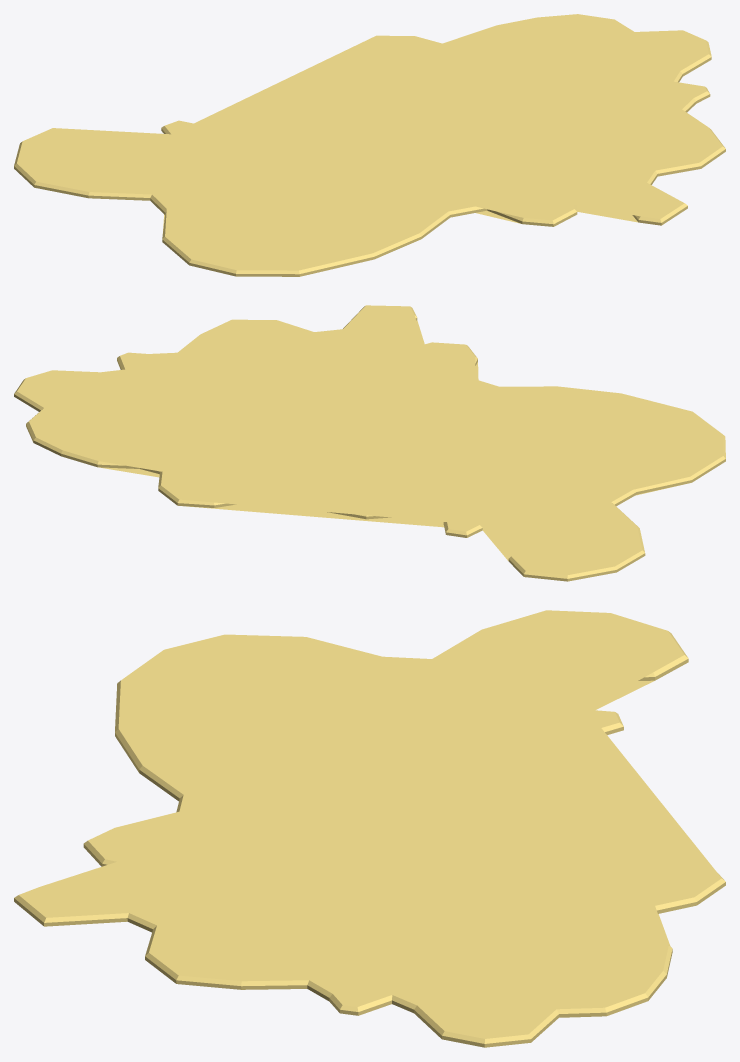
File: colla_pesce_ui.fbx
The picture shows the model from 3 angles, top to bottom: view 1: azimuth 30°, elevation 25°; view 2: azimuth 150°, elevation 25°; view 3: azimuth 270°, elevation 25°; orthographic projection. The views are drawn at different scales.
Parts seen in each view (by area): view 1: Colla di pesce; view 2: Colla di pesce; view 3: Colla di pesce.
Part boxes in pixels (x1,y1,x2,y2): Colla di pesce: [14, 14, 725, 276]; Colla di pesce: [14, 305, 725, 581]; Colla di pesce: [14, 610, 725, 1047].
Bounding box in the file's own units: 57.24 × 0.4369 × 39.87.
